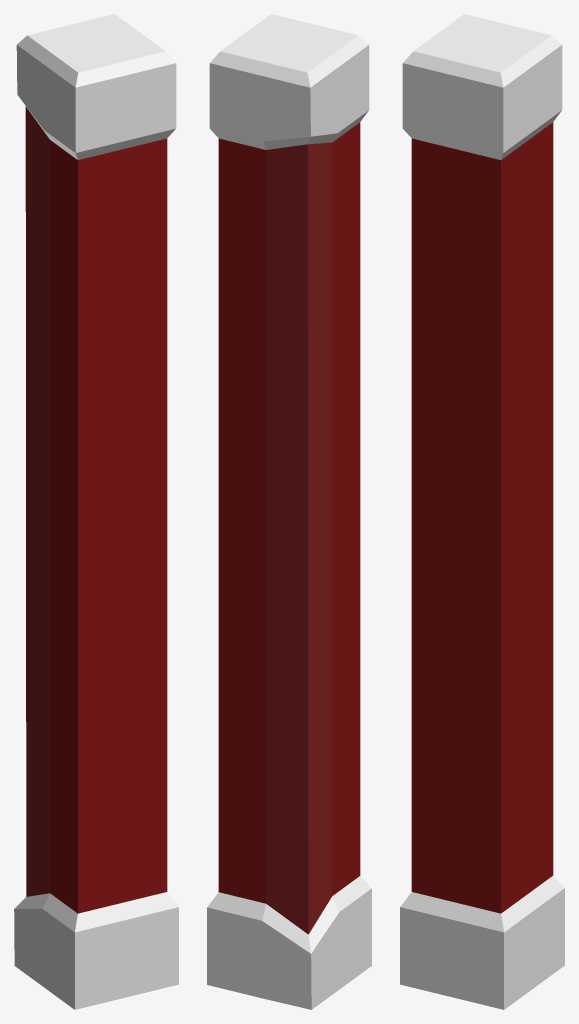
File: g_o_RedWallCorner270.fbx
3 views of the same model, side by side, from view 1: azimuth 30°, elevation 25°; view 2: azimuth 150°, elevation 25°; view 3: azimuth 330°, elevation 25° (orthographic).
Visible parts, largest first — view 1: g_t_RedWallCorner270; view 2: g_t_RedWallCorner270; view 3: g_t_RedWallCorner270.
Boxes of the visible parts, box(x1,y1,x2,y2) form: g_t_RedWallCorner270: box(14, 14, 178, 1009); g_t_RedWallCorner270: box(207, 14, 371, 1009); g_t_RedWallCorner270: box(400, 14, 564, 1009).
Size of the model in its own units: 0.2198 by 1.88 by 0.2223.
